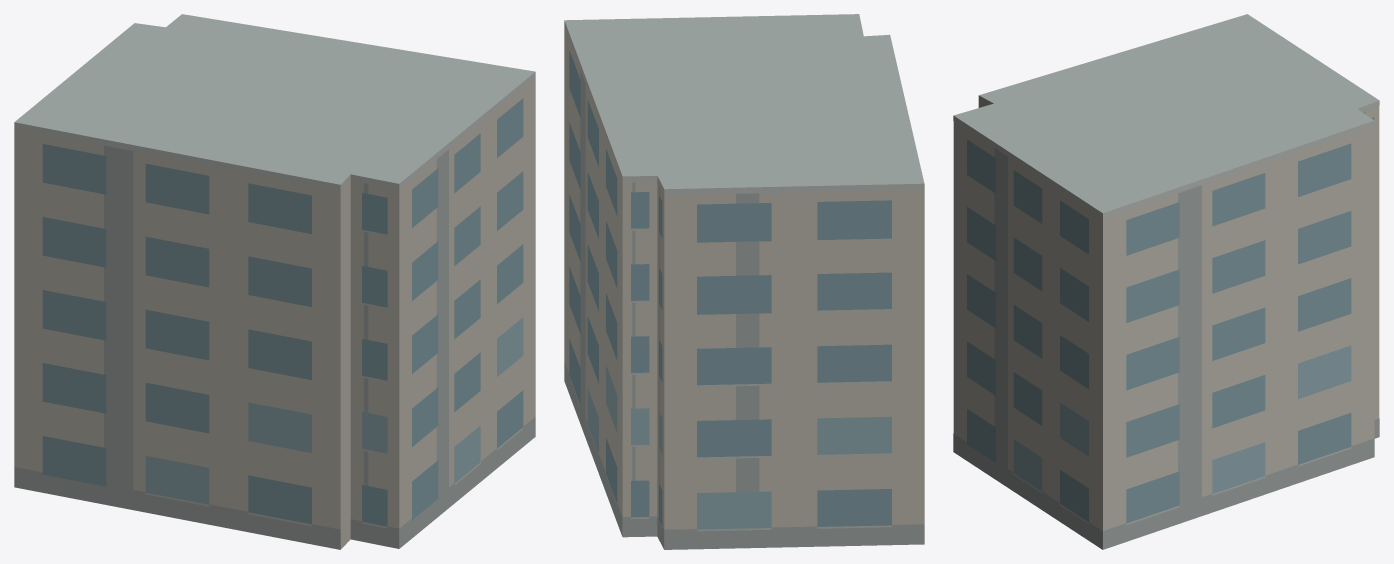
The model's file is survey-upis-32775789.glb.
3 views of the same model, side by side, from view 1: azimuth 30°, elevation 25°; view 2: azimuth 150°, elevation 25°; view 3: azimuth 270°, elevation 25° (orthographic). The views are drawn at different scales.
Visible parts, largest first — view 1: survey-upis-32775789.tmp; view 2: survey-upis-32775789.tmp; view 3: survey-upis-32775789.tmp.
Part boxes in pixels (x1,y1,x2,y2): survey-upis-32775789.tmp: (14, 14, 535, 549); survey-upis-32775789.tmp: (564, 14, 924, 549); survey-upis-32775789.tmp: (953, 14, 1379, 549).
Bounding box in the file's own units: 18.29 × 14.4 × 16.53.
